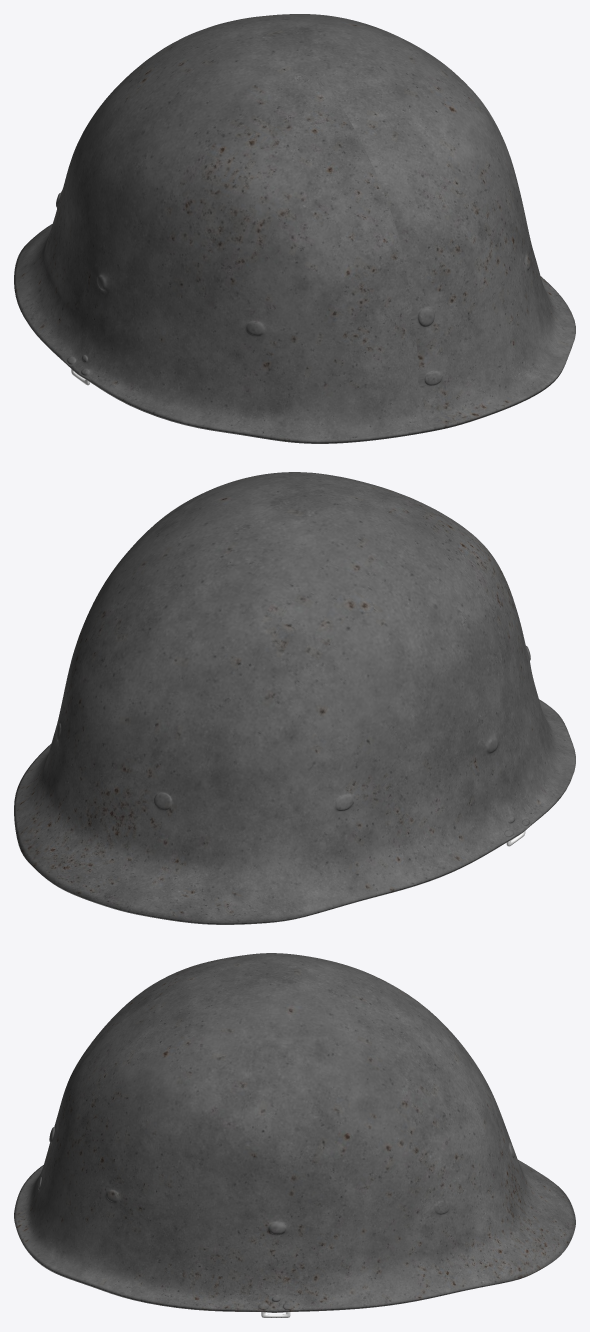
The model's file is helm .fbx.
The picture shows the model from 3 angles, top to bottom: view 1: azimuth 30°, elevation 25°; view 2: azimuth 150°, elevation 25°; view 3: azimuth 270°, elevation 25°; orthographic projection. The views are drawn at different scales.
Parts seen in each view (by area): view 1: Sphere.000; view 2: Sphere.000; view 3: Sphere.000.
Part boxes in pixels (box(x1,y1,x2,y2)): Sphere.000: box(14, 14, 575, 443); Sphere.000: box(14, 472, 575, 924); Sphere.000: box(14, 953, 575, 1312).
Size of the model in its own units: 137 by 84.49 by 171.
